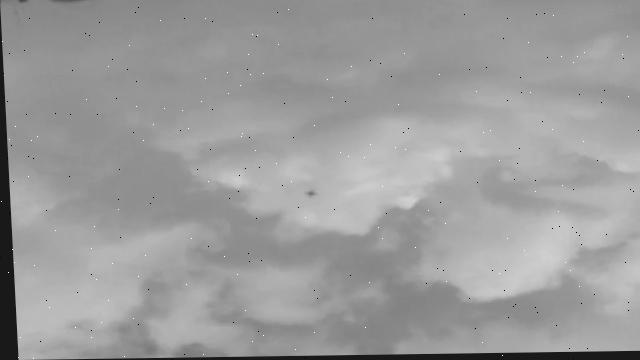drone: (302, 190, 316, 203)
